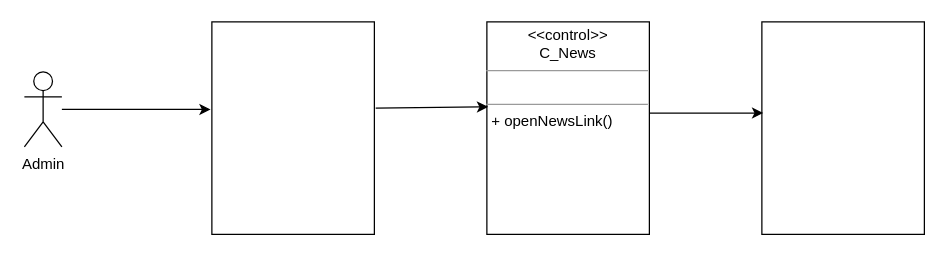
This 946x256 diagram has some shape labels left out. The shapes that lost their labels are listed below. From the top down, each one's box as (x1, y1, x2, y2) in pixels, then its label:
(211, 21, 374, 234): < <boundary >> V_News + newsName + newsLink + seeNew()
(761, 21, 924, 234): < <entity >> M_News + news_id: int + news_link: string
